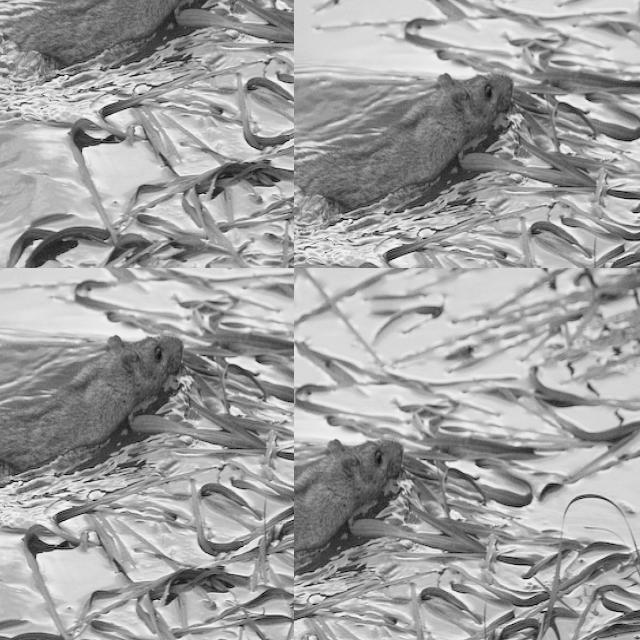rat: (108, 140, 254, 268), (294, 435, 402, 587), (0, 140, 107, 268)
